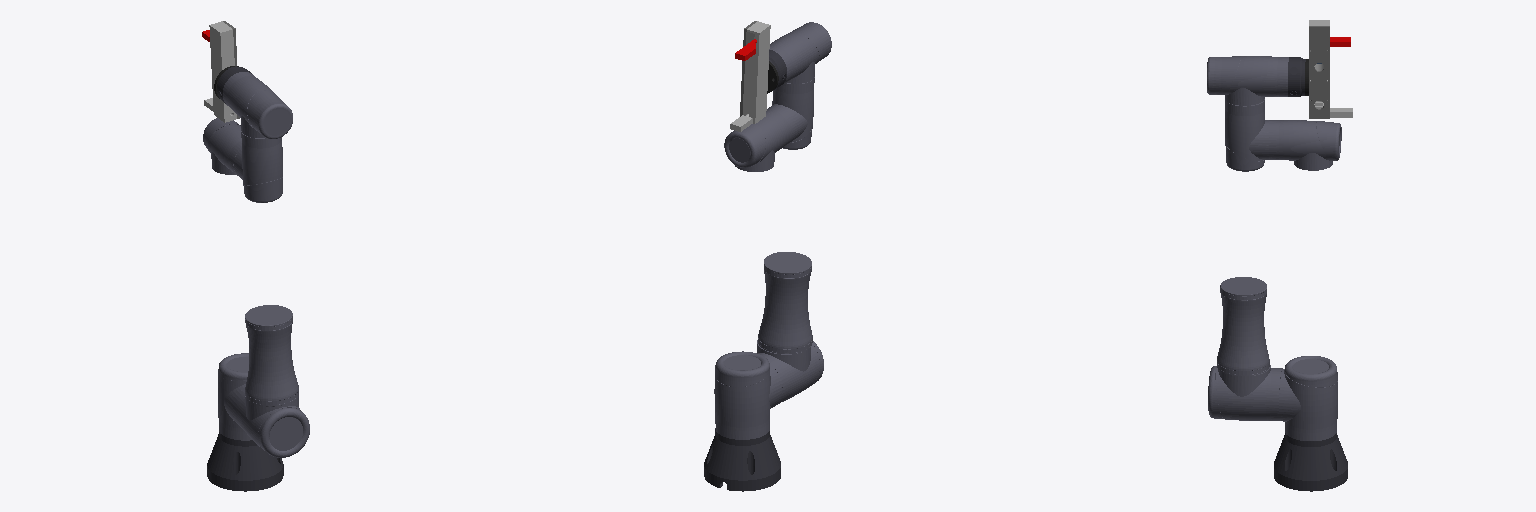
robot.urdf — lexium_cobot_with_final_gripper:
<?xml version="1.0"?>
<!--
  Lexium Cobot + final gripper · URDF V61 (URDF DEFINITIVO)
  ===========================================================================
  V61 reemplaza el cobot anterior de la simulacion por el URDF DEFINITIVO
  proporcionado en URDF_DEFINITIVO.zip ("lexium_cobot_v26.urdf"), tal cual.

  Modificacion respecto al URDF antiguo:
    - link3_elbow_connector se extrae como link independiente.
    - joint_3 y toda la cadena subsecuente cuelgan de link_elbow_connector,
      heredando la rotacion 180Y concentrica del pivot.
    - Visual origins de links downstream: identicos al URDF definitivo
      original.
    - Cinematica revolute/prismatic: identica al URDF definitivo.

  Diferencias minimas vs el archivo del zip:
    - Mesh filenames usan `package://lexium_cobot_with_final_gripper/...`
      en lugar de paths relativos, para que el URDF se cargue desde
      cualquier launch ROS.
-->
<robot name="lexium_cobot_with_final_gripper">

  <material name="lexium_grey"><color rgba="0.40 0.40 0.45 1.0"/></material>
  <material name="lexium_dark"><color rgba="0.25 0.25 0.28 1.0"/></material>
  <material name="dark_gray"><color rgba="0.18 0.18 0.18 1"/></material>
  <material name="light_gray"><color rgba="0.70 0.70 0.70 1"/></material>
  <material name="medium_gray"><color rgba="0.45 0.45 0.45 1"/></material>
  <material name="blue_gray"><color rgba="0.25 0.33 0.42 1"/></material>
  <material name="red_gripper"><color rgba="0.85 0.05 0.05 1"/></material>

  <link name="world"/>
  <joint name="world_to_base_link_z_reference" type="fixed">
    <parent link="world"/>
    <child link="base_link"/>
    <origin xyz="0 0 0" rpy="1.57079632679 0 0"/>
  </joint>

  <link name="base_link">
    <visual>
      <origin xyz="0 0 0" rpy="0 0 0"/>
      <geometry><mesh filename="package://lexium_cobot_with_final_gripper/meshes/cobot/link0_base.STL" scale="0.001 0.001 0.001"/></geometry>
      <material name="lexium_dark"/>
    </visual>
  </link>

  <joint name="joint_1" type="revolute">
    <parent link="base_link"/><child link="link1_shoulder"/>
    <origin xyz="0.1623 0.0867 0.0645" rpy="0 0 0"/>
    <axis xyz="0 1 0"/>
    <limit lower="-3.14159" upper="3.14159" velocity="3.14" effort="50"/>
  </joint>

  <link name="link1_shoulder">
    <visual>
      <origin xyz="-0.1623 -0.0867 -0.0645" rpy="0 0 0"/>
      <geometry><mesh filename="package://lexium_cobot_with_final_gripper/meshes/cobot/link1_shoulder_rotation.STL" scale="0.001 0.001 0.001"/></geometry>
      <material name="lexium_grey"/>
    </visual>
  </link>

  <joint name="joint_2" type="revolute">
    <parent link="link1_shoulder"/><child link="link2_upper_arm"/>
    <origin xyz="-0.0115 0.0639 0" rpy="0 0 0.05"/>
    <axis xyz="0 0 1"/>
    <limit lower="-2.61799" upper="2.61799" velocity="3.14" effort="50"/>
  </joint>

  <link name="link2_upper_arm">
    <visual>
      <origin xyz="-0.1508 -0.1506 -0.0645" rpy="0 0 0"/>
      <geometry><mesh filename="package://lexium_cobot_with_final_gripper/meshes/cobot/link2_shoulder_connector.STL" scale="0.001 0.001 0.001"/></geometry>
      <material name="lexium_grey"/>
    </visual>
    <visual>
      <origin xyz="-0.1508 -0.1506 -0.0645" rpy="0 0 0"/>
      <geometry><mesh filename="package://lexium_cobot_with_final_gripper/meshes/cobot/link2_elbow_joint.STL" scale="0.001 0.001 0.001"/></geometry>
      <material name="lexium_grey"/>
    </visual>
  </link>

  <joint name="joint_elbow_connector" type="fixed">
    <parent link="link2_upper_arm"/>
    <child link="link_elbow_connector"/>
    <origin xyz="0.001060 0.243625 0.119967" rpy="0 3.14159265359 0"/>
  </joint>

  <link name="link_elbow_connector">
    <visual>
      <origin xyz="-0.151860 -0.394225 -0.172817" rpy="0 0 0"/>
      <geometry><mesh filename="package://lexium_cobot_with_final_gripper/meshes/cobot/link3_elbow_connector.STL" scale="0.001 0.001 0.001"/></geometry>
      <material name="lexium_grey"/>
    </visual>
  </link>

  <joint name="joint_3" type="revolute">
    <parent link="link_elbow_connector"/><child link="link3_forearm"/>
    <origin xyz="0.002560 0.001375 0.113592" rpy="0 0 0"/>
    <axis xyz="0 0 1"/>
    <limit lower="-2.61799" upper="2.61799" velocity="3.14" effort="50"/>
  </joint>

  <link name="link3_forearm">
    <visual>
      <origin xyz="-0.1493 -0.3956 -0.2903" rpy="0 0 0"/>
      <geometry><mesh filename="package://lexium_cobot_with_final_gripper/meshes/cobot/link3_forearm.STL" scale="0.001 0.001 0.001"/></geometry>
      <material name="lexium_grey"/>
    </visual>
    <visual>
      <origin xyz="-0.1493 -0.3956 -0.2903" rpy="0 0 0"/>
      <geometry><mesh filename="package://lexium_cobot_with_final_gripper/meshes/cobot/link6_wrist3_cylinder.STL" scale="0.001 0.001 0.001"/></geometry>
      <material name="lexium_grey"/>
    </visual>
    <visual>
      <origin xyz="-0.1493 -0.3956 -0.2903" rpy="0 0 0"/>
      <geometry><mesh filename="package://lexium_cobot_with_final_gripper/meshes/cobot/link5_wrist2_body.STL" scale="0.001 0.001 0.001"/></geometry>
      <material name="lexium_grey"/>
    </visual>
  </link>

  <joint name="joint_4" type="revolute">
    <parent link="link3_forearm"/><child link="link4_wrist1"/>
    <origin xyz="-0.0060 0.2295 0.1244" rpy="0 0 0"/>
    <axis xyz="0 0 1"/>
    <limit lower="-3.14159" upper="3.14159" velocity="3.14" effort="50"/>
  </joint>

  <link name="link4_wrist1">
    <visual>
      <origin xyz="-0.1433 -0.6251 -0.4147" rpy="0 0 0"/>
      <geometry><mesh filename="package://lexium_cobot_with_final_gripper/meshes/cobot/link4_wrist1_cylinder.STL" scale="0.001 0.001 0.001"/></geometry>
      <material name="lexium_grey"/>
    </visual>
    <visual>
      <origin xyz="-0.1433 -0.6251 -0.4147" rpy="0 0 0"/>
      <geometry><mesh filename="package://lexium_cobot_with_final_gripper/meshes/cobot/link5_wrist2_cylinder.STL" scale="0.001 0.001 0.001"/></geometry>
      <material name="lexium_grey"/>
    </visual>
  </link>

  <joint name="joint_5" type="revolute">
    <parent link="link4_wrist1"/><child link="link5_wrist2"/>
    <origin xyz="-0.0010 0.0465 -0.2300" rpy="0 0 0"/>
    <axis xyz="0 1 0"/>
    <limit lower="-2.09440" upper="2.09440" velocity="3.14" effort="50"/>
  </joint>

  <link name="link5_wrist2">
    <visual>
      <origin xyz="-0.1423 -0.6716 -0.1847" rpy="0 0 0"/>
      <geometry><mesh filename="package://lexium_cobot_with_final_gripper/meshes/cobot/link6_wrist3_upper_body.STL" scale="0.001 0.001 0.001"/></geometry>
      <material name="lexium_grey"/>
    </visual>
  </link>

  <joint name="joint_6" type="revolute">
    <parent link="link5_wrist2"/><child link="link6_wrist3"/>
    <origin xyz="-0.0040 0.0720 0.0898" rpy="0 0 0"/>
    <axis xyz="0 0 1"/>
    <limit lower="-3.14159" upper="3.14159" velocity="3.14" effort="50"/>
  </joint>

  <link name="link6_wrist3">
    <visual>
      <origin xyz="-0.1383 -0.7436 -0.2745" rpy="0 0 0"/>
      <geometry><mesh filename="package://lexium_cobot_with_final_gripper/meshes/cobot/link6_tool_flange.STL" scale="0.001 0.001 0.001"/></geometry>
      <material name="lexium_dark"/>
    </visual>
  </link>

  <joint name="joint_tool0" type="fixed">
    <parent link="link6_wrist3"/><child link="tool0"/>
    <origin xyz="0 0.068 0" rpy="0 0 0"/>
  </joint>
  <link name="tool0"/>

  <joint name="tool0_to_gripper_base" type="fixed">
    <parent link="tool0"/>
    <child link="gripper_base"/>
    <origin xyz="0 -0.07 0.015" rpy="0 0 0"/>
  </joint>
  <link name="gripper_base"/>

  <link name="stump_link">
    <visual>
      <origin xyz="0 0 0" rpy="-1.57079632679 0 0"/>
      <geometry><mesh filename="package://lexium_cobot_with_final_gripper/meshes/gripper/stump.stl" scale="0.001 0.001 0.001"/></geometry>
      <material name="dark_gray"/>
    </visual>
  </link>
  <joint name="stump_fixed_joint" type="fixed">
    <parent link="gripper_base"/><child link="stump_link"/>
    <origin xyz="0 0 0" rpy="0 0 0"/>
  </joint>

  <link name="fixture_link">
    <visual>
      <origin xyz="0 0 0" rpy="-1.57079632679 0 0"/>
      <geometry><mesh filename="package://lexium_cobot_with_final_gripper/meshes/gripper/fixture.stl" scale="0.001 0.001 0.001"/></geometry>
      <material name="light_gray"/>
    </visual>
  </link>
  <joint name="fixture_fixed_joint" type="fixed">
    <parent link="gripper_base"/><child link="fixture_link"/>
    <origin xyz="0 0 0" rpy="0 0 0"/>
  </joint>

  <link name="fixture1_link">
    <visual>
      <origin xyz="0 0 0" rpy="-1.57079632679 0 0"/>
      <geometry><mesh filename="package://lexium_cobot_with_final_gripper/meshes/gripper/fixture1.stl" scale="0.001 0.001 0.001"/></geometry>
      <material name="medium_gray"/>
    </visual>
  </link>
  <joint name="fixture1_fixed_joint" type="fixed">
    <parent link="gripper_base"/><child link="fixture1_link"/>
    <origin xyz="0 0 0" rpy="0 0 0"/>
  </joint>

  <link name="neck_link">
    <visual>
      <origin xyz="0 0 0" rpy="-1.57079632679 0 0"/>
      <geometry><mesh filename="package://lexium_cobot_with_final_gripper/meshes/gripper/neck.stl" scale="0.001 0.001 0.001"/></geometry>
      <material name="blue_gray"/>
    </visual>
  </link>
  <joint name="neck_fixed_joint" type="fixed">
    <parent link="gripper_base"/><child link="neck_link"/>
    <origin xyz="0 0 0" rpy="0 0 0"/>
  </joint>

  <link name="appendage_link">
    <visual>
      <origin xyz="0 0 0" rpy="-1.57079632679 0 0"/>
      <geometry><mesh filename="package://lexium_cobot_with_final_gripper/meshes/gripper/appendage.stl" scale="0.001 0.001 0.001"/></geometry>
      <material name="red_gripper"/>
    </visual>
  </link>
  <joint name="appendage_prismatic_joint" type="prismatic">
    <parent link="gripper_base"/><child link="appendage_link"/>
    <origin xyz="0 0 0" rpy="0 0 0"/>
    <axis xyz="0 1 0"/>
    <limit lower="0.000" upper="0.028" effort="30" velocity="0.08"/>
  </joint>

  <link name="tcp_link"/>
  <joint name="tcp_fixed_joint" type="fixed">
    <parent link="appendage_link"/><child link="tcp_link"/>
    <origin xyz="0.000250 0.060250 0.076750" rpy="0 0 0"/>
  </joint>

  <link name="cafi_lateral_target_frame"/>
  <joint name="cafi_lateral_target_fixed_joint" type="fixed">
    <parent link="gripper_base"/>
    <child link="cafi_lateral_target_frame"/>
    <origin xyz="0.000000 0.016600 0.076750" rpy="0 0 0"/>
  </joint>

</robot>

--- Render facts (derived) ---
The picture shows the robot from 3 angles, left to right: view 1: azimuth 30°, elevation 25°; view 2: azimuth 150°, elevation 25°; view 3: azimuth 270°, elevation 25°; orthographic projection.
Robot: lexium_cobot_with_final_gripper — 18 links, 17 joints (6 revolute, 1 prismatic, 10 fixed); root link world; default pose: every joint at zero.
Visible links, largest first — view 1: link2_upper_arm, base_link, link5_wrist2, link4_wrist1, link1_shoulder, fixture_link, link3_forearm; view 2: link2_upper_arm, link1_shoulder, base_link, link3_forearm, link5_wrist2, fixture_link, link4_wrist1; view 3: link2_upper_arm, link1_shoulder, link5_wrist2, base_link, link3_forearm, link4_wrist1, fixture1_link, link6_wrist3.
Link boxes in pixels (<box>): link2_upper_arm: <box>233,305,309,457</box>; base_link: <box>207,432,283,491</box>; link5_wrist2: <box>223,72,292,138</box>; link4_wrist1: <box>234,131,282,202</box>; link1_shoulder: <box>218,353,251,440</box>; fixture_link: <box>204,21,236,122</box>; link3_forearm: <box>203,118,241,175</box>; link2_upper_arm: <box>757,252,823,404</box>; link1_shoulder: <box>714,351,782,439</box>; base_link: <box>704,428,780,491</box>; link3_forearm: <box>724,106,796,171</box>; link5_wrist2: <box>769,22,831,83</box>; fixture_link: <box>730,21,770,131</box>; link4_wrist1: <box>769,77,814,149</box>; link2_upper_arm: <box>1208,277,1282,420</box>; link1_shoulder: <box>1279,356,1337,440</box>; link5_wrist2: <box>1207,56,1288,105</box>; base_link: <box>1274,433,1347,491</box>; link3_forearm: <box>1269,120,1341,170</box>; link4_wrist1: <box>1225,99,1268,171</box>; fixture1_link: <box>1309,26,1329,118</box>; link6_wrist3: <box>1288,57,1305,96</box>.
Bounding box of the posed robot: 0.1372 × 0.2521 × 0.8408 m (x, y, z).
15 mesh visuals loaded from 17 distinct referenced files (15 binary STL); not drawn: 2 (reference not matched to a file when rendering).
